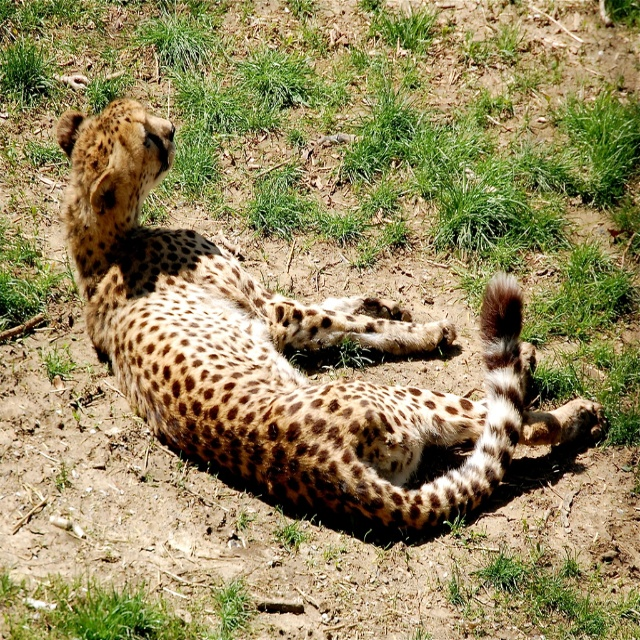Cheetah: (55, 96, 609, 539)
